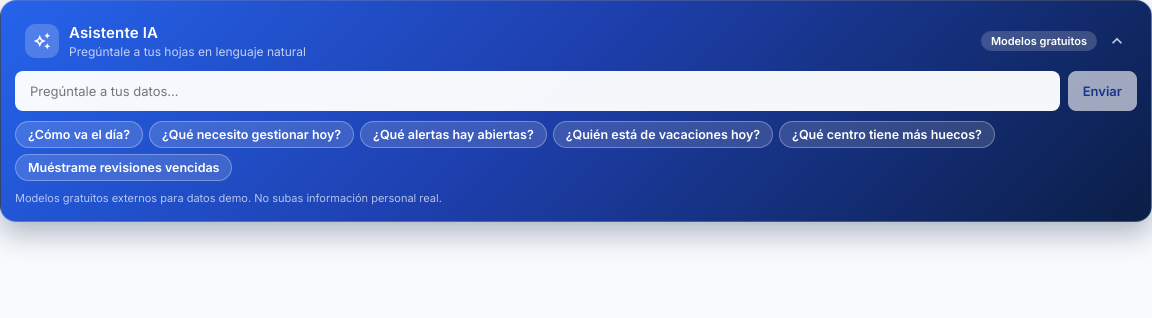
Test case: CopilotPanel › responde a un error 503 con el mensaje del servidor
In the field named "pregunta al copiloto": (537,91) 15,71 -> 1060,111, type "hola"
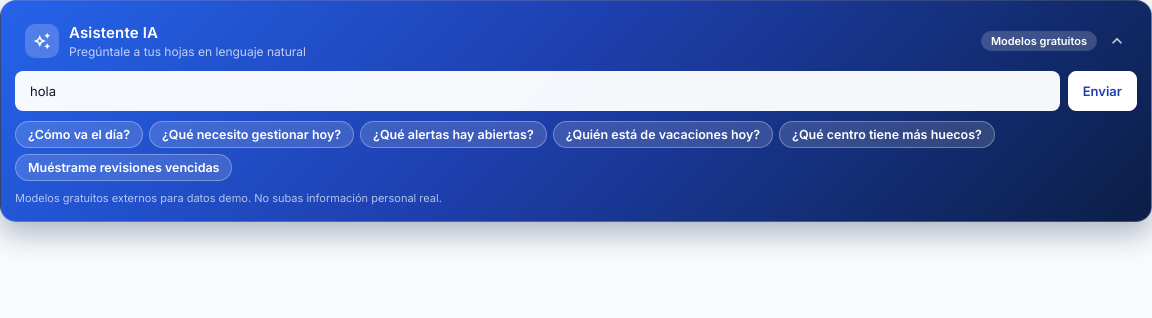
Press Enter in the field named "pregunta al copiloto", box 15,71 -> 1060,111
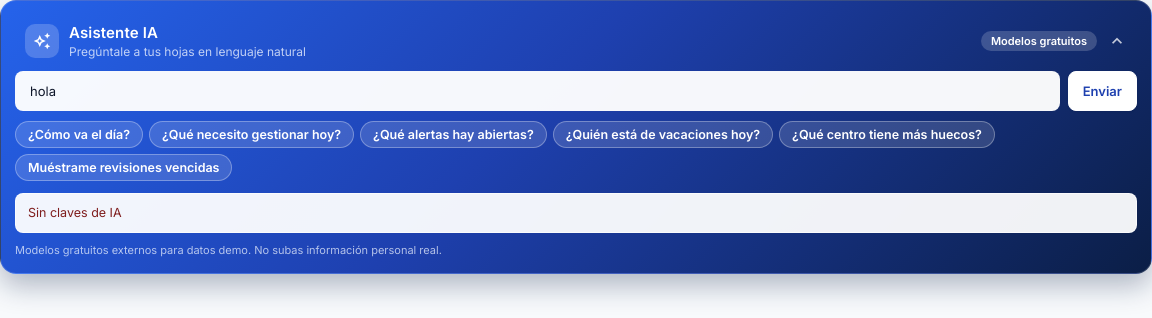
Check: the text "Sin claves de IA" is shown, box 15,193 -> 1137,233
